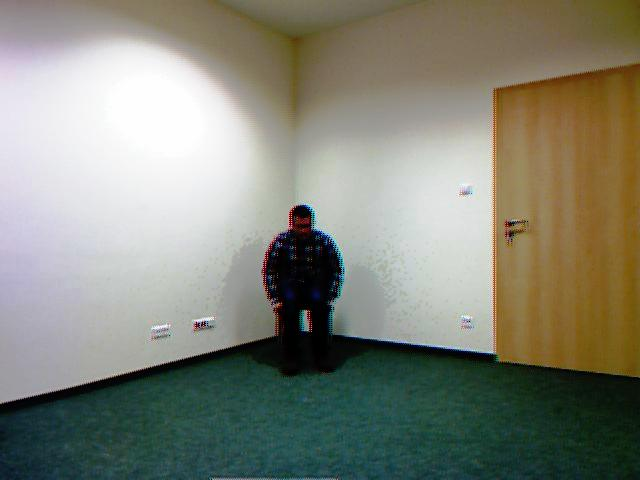sitting: (251, 191, 360, 397)
